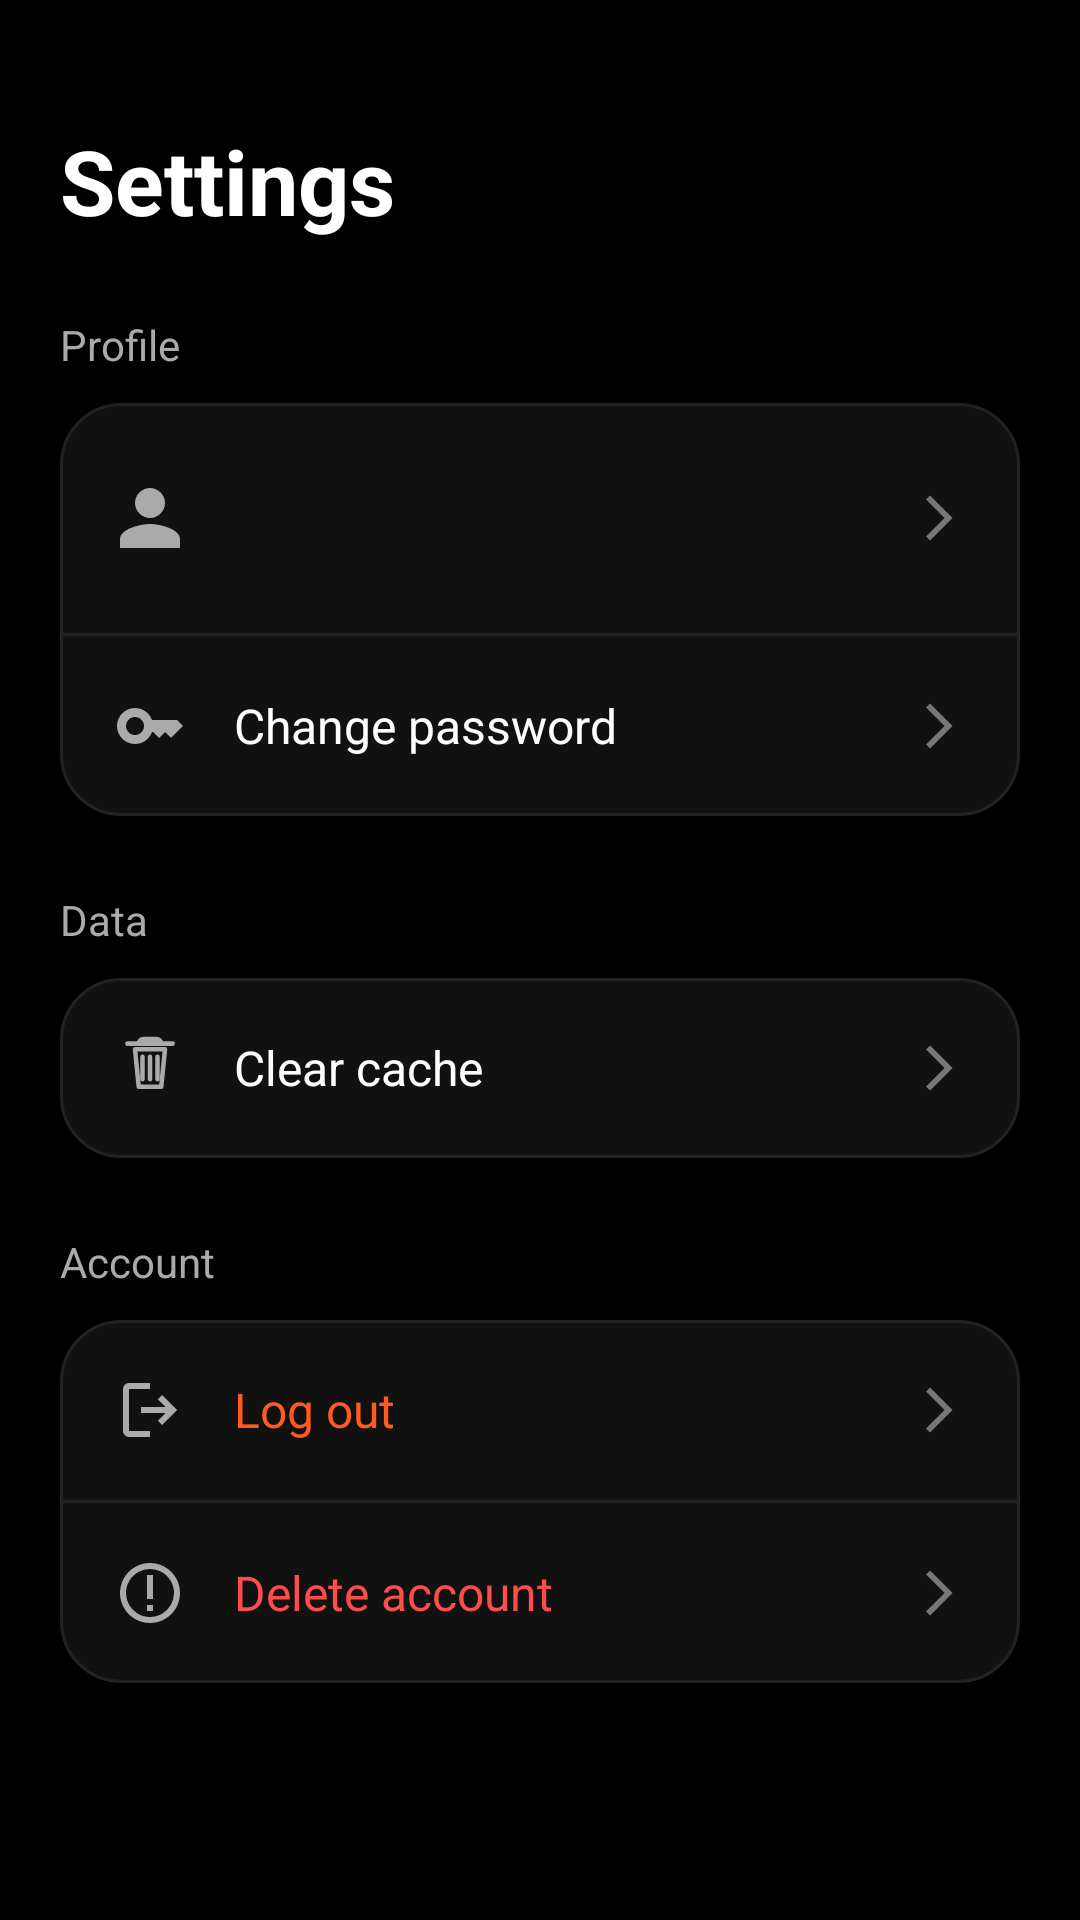

Named icons in this screenshot (1080 x 1920) and their centers, (x,y):
arrow right: (939,518), (939,726), (939,1068), (939,1410), (939,1593)
key: (150,726)
trash: (150,1062)
user: (150,518)
warning: (150,1593)
